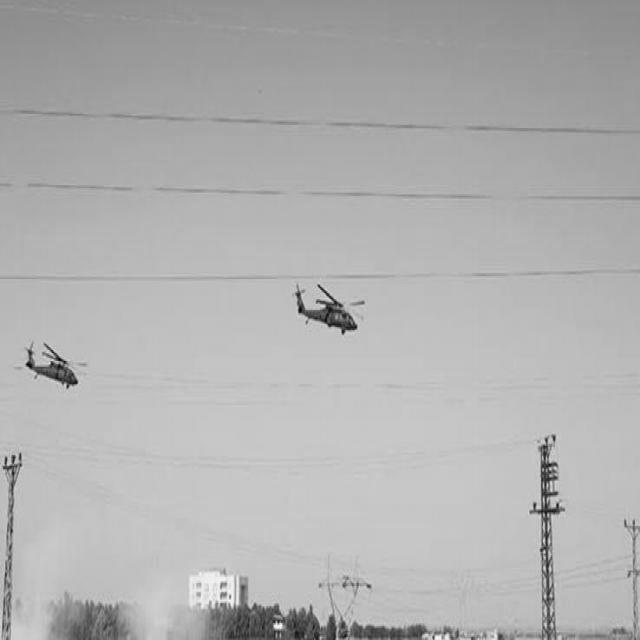helikopter: (280, 260, 390, 354), (15, 322, 99, 409)
